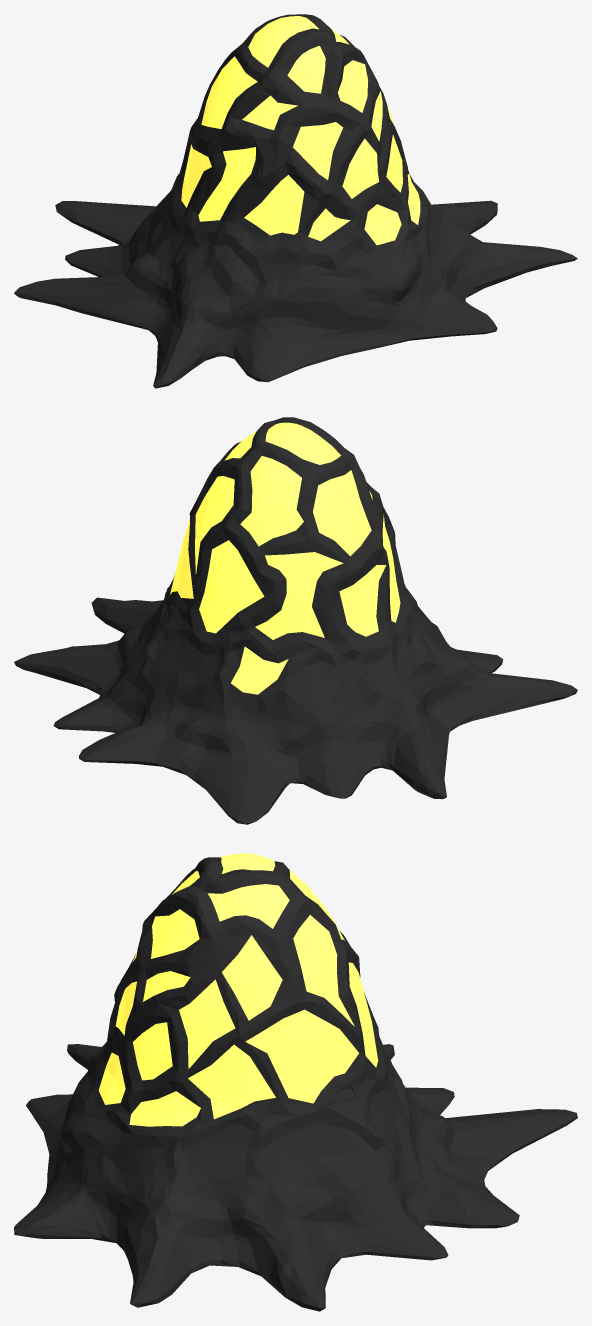
The model's file is SpiderEggLow_01.fbx.
The picture shows the model from 3 angles, top to bottom: view 1: azimuth 30°, elevation 25°; view 2: azimuth 150°, elevation 25°; view 3: azimuth 270°, elevation 25°; orthographic projection. The views are drawn at different scales.
Parts seen in each view (by area): view 1: EggSecondary, EggPrimary; view 2: EggSecondary, EggPrimary; view 3: EggSecondary, EggPrimary.
Boxes of the visible parts, <box> form: EggSecondary: <box>14,14,577,388</box>; EggPrimary: <box>181,16,420,245</box>; EggSecondary: <box>14,417,577,824</box>; EggPrimary: <box>170,422,400,694</box>; EggSecondary: <box>14,857,577,1311</box>; EggPrimary: <box>98,853,378,1126</box>.
Size of the model in its own units: 4.75 by 2.72 by 4.3.
